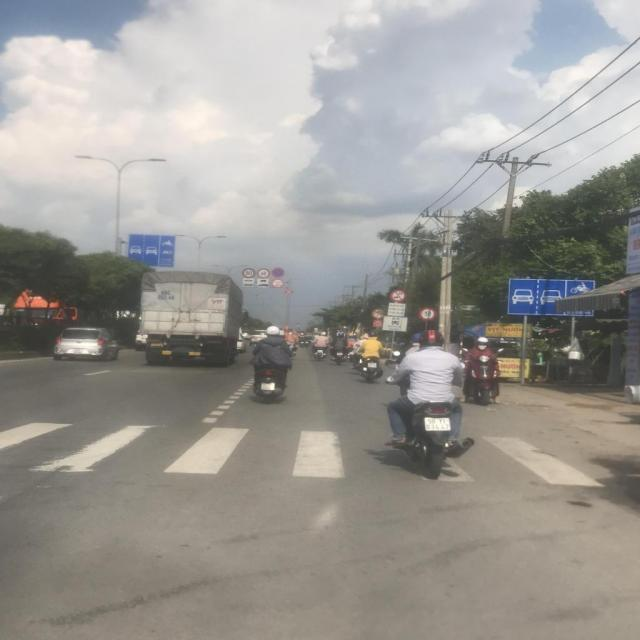107-cam-oto-khach-va-oto-tai: (390, 289, 406, 303)
127-toc-do-toi-da-50: (418, 308, 438, 320)
127-toc-do-toi-da-60: (256, 268, 270, 280)
127-toc-do-toi-da-80: (240, 268, 256, 278)
